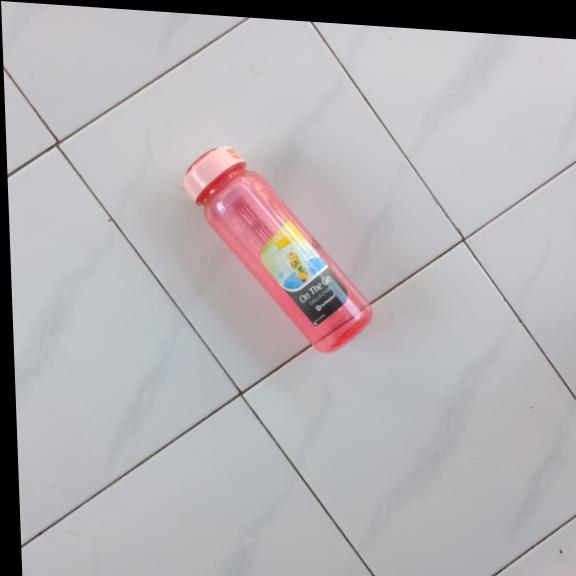Plastik: (178, 142, 374, 356)
